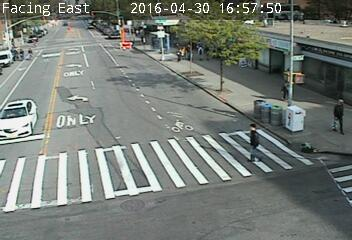neg: (279, 25, 300, 54), (283, 105, 299, 127), (210, 34, 226, 55), (51, 22, 67, 42), (324, 48, 339, 68), (244, 57, 256, 74), (21, 106, 33, 122), (164, 118, 175, 133), (70, 24, 81, 38), (1, 124, 11, 139), (57, 111, 67, 124), (92, 21, 100, 32), (159, 36, 167, 47)
pos: (240, 122, 269, 161), (327, 97, 351, 135), (277, 77, 295, 101), (194, 41, 208, 61), (25, 46, 35, 58), (17, 48, 26, 59)
